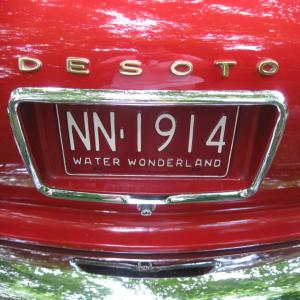Vehicle-registration-plate: (57, 105, 242, 179)
